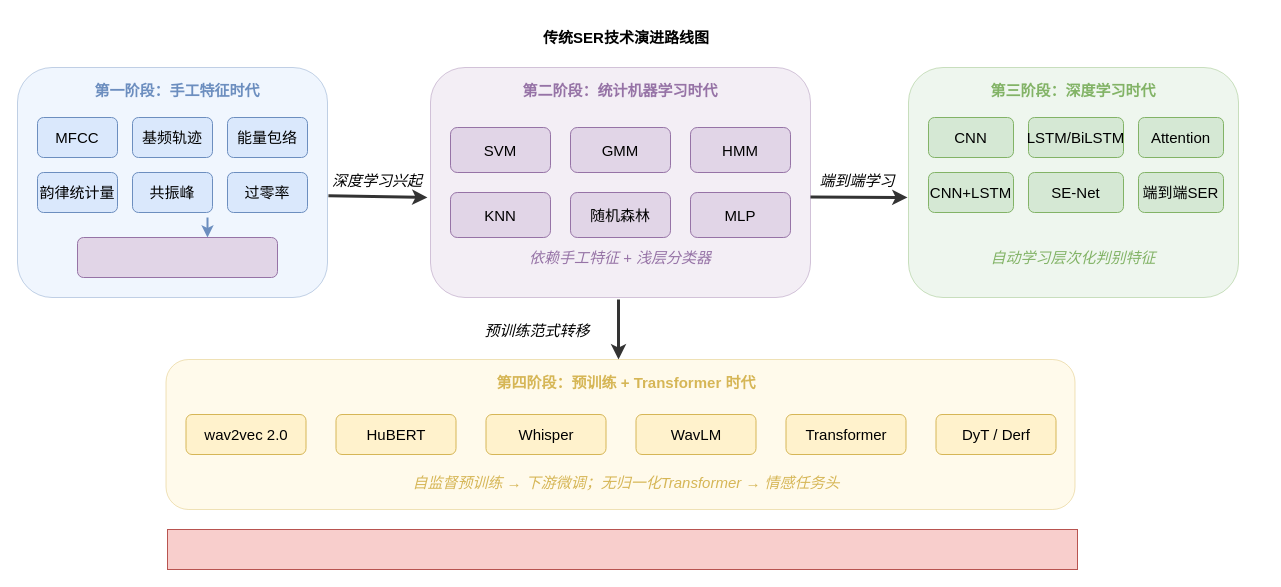
Image size: 1281x587. Some labels were removed from this diagram. The centre of each missing label's shape, as x and y in pixels:
"openSMILE 特征提取工具" goes at (x=177, y=257).
"⚠ 持续挑战：跨语料泛化 ｜ 情感标注不确定性 ｜ 高唤醒情感混淆 ｜ 多语料标签不统一" goes at (x=622, y=549).
